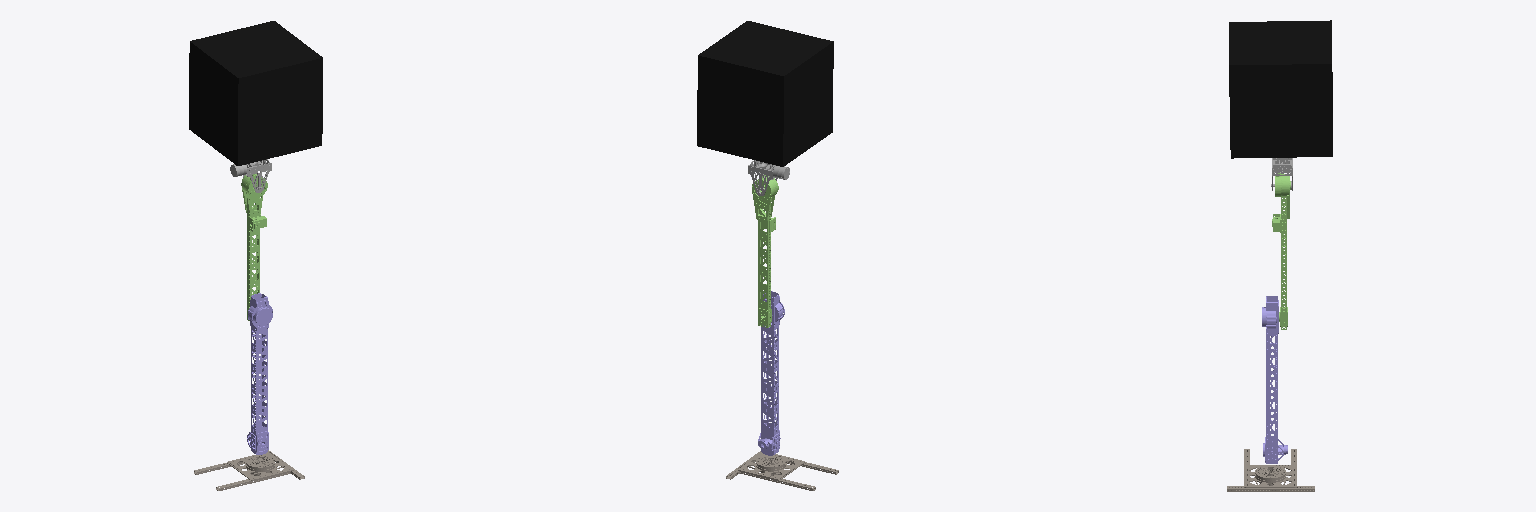
robot.urdf — robotic_arm_2:
<?xml version="1.0" encoding="utf-8"?>
<!-- This URDF was automatically created by SolidWorks to URDF Exporter! Originally created by Stephen Brawner (brawner@gmail.com) 
     Commit Version: 1.6.0-4-g7f85cfe  Build Version: 1.6.7995.38578
     For more information, please see http://wiki.ros.org/sw_urdf_exporter -->
<robot
  name="robotic_arm_2">
  <ros2_control name="arm_hw" type="system">
    <hardware>
      <plugin>mujoco_ros2_control/MujocoSystem</plugin>
    </hardware>

    <joint name="joint1">
      <command_interface name="effort"/>
      <state_interface name="position"/>
      <state_interface name="velocity"/>
      <state_interface name="effort"/>
    </joint>

    <joint name="joint2">
      <command_interface name="effort"/>
      <state_interface name="position"/>
      <state_interface name="velocity"/>
      <state_interface name="effort"/>
    </joint>

    <joint name="joint3">
      <command_interface name="effort"/>
      <state_interface name="position"/>
      <state_interface name="velocity"/>
      <state_interface name="effort"/>
    </joint>

    <joint name="joint4">
      <command_interface name="effort"/>
      <state_interface name="position"/>
      <state_interface name="velocity"/>
      <state_interface name="effort"/>
    </joint>

    <joint name="joint5">
      <command_interface name="effort"/>
      <state_interface name="position"/>
      <state_interface name="velocity"/>
      <state_interface name="effort"/>
    </joint>

    <joint name="joint6">
      <command_interface name="effort"/>
      <state_interface name="position"/>
      <state_interface name="velocity"/>
      <state_interface name="effort"/>
    </joint>
  </ros2_control>
  <link
    name="base_link">
    <inertial>
      <origin
        xyz="-0.00360621703012591 5.13966575302616E-05 -0.0043754845331987"
        rpy="0 0 0" />
      <mass
        value="0.905716016234243" />
      <inertia
        ixx="0.00107148927738251"
        ixy="2.76094590635663E-06"
        ixz="-5.48596184839886E-07"
        iyy="0.00144104333997985"
        iyz="2.22550097763412E-07"
        izz="0.00244792600108889" />
    </inertial>
    <visual>
      <origin
        xyz="0 0 0"
        rpy="0 0 0" />
      <geometry>
        <mesh
          filename="package://arm/model_2/base_link.STL" />
      </geometry>
      <material
        name="">
        <color
          rgba="0.650980392156863 0.619607843137255 0.588235294117647 1" />
      </material>
    </visual>
    <collision>
      <origin
        xyz="0 0 0"
        rpy="0 0 0" />
      <geometry>
        <mesh
          filename="package://arm/model_2/base_link.STL" />
      </geometry>
    </collision>
  </link>
  <link
    name="link1">
    <inertial>
      <origin
        xyz="-0.000108374982880771 -0.0224173657094816 0.029569493742257"
        rpy="0 0 0" />
      <mass
        value="1.91180538120759" />
      <inertia
        ixx="0.00130826953333855"
        ixy="1.36686617170016E-06"
        ixz="1.38971343692845E-05"
        iyy="0.00190867031534286"
        iyz="1.26824667763748E-06"
        izz="0.0017708012751492" />
    </inertial>
    <visual>
      <origin
        xyz="0 0 0"
        rpy="0 0 0" />
      <geometry>
        <mesh
          filename="package://arm/model_2/link1.STL" />
      </geometry>
      <material
        name="">
        <color
          rgba="0.650980392156863 0.619607843137255 0.588235294117647 1" />
      </material>
    </visual>
    <collision>
      <origin
        xyz="0 0 0"
        rpy="0 0 0" />
      <geometry>
        <mesh
          filename="package://arm/model_2/link1.STL" />
      </geometry>
    </collision>
  </link>
  <joint
    name="j1"
    type="continuous">
    <origin
      xyz="6.34132927793407E-05 -0.00167405073291106 0.0278500000000087"
      rpy="0 0 0" />
    <parent
      link="base_link" />
    <child
      link="link1" />
    <axis
      xyz="0 0 1" />
    <limit
      lower="-3.14"
      upper="3.14"
      effort="100"
      velocity="1" />
  </joint>
  <link
    name="link2">
    <inertial>
      <origin
        xyz="0.375032807584109 -0.00767142856849168 -0.014875051736123"
        rpy="0 0 0" />
      <mass
        value="1.09233144358037" />
      <inertia
        ixx="0.0005626450541676"
        ixy="4.63551737429072E-07"
        ixz="-5.41332728898312E-05"
        iyy="0.00825256907491952"
        iyz="-1.20408146474298E-06"
        izz="0.00858584566040511" />
    </inertial>
    <visual>
      <origin
        xyz="0 0 0"
        rpy="0 0 0" />
      <geometry>
        <mesh
          filename="package://arm/model_2/link2.STL" />
      </geometry>
      <material
        name="">
        <color
          rgba="0.701960784313725 0.670588235294118 0.933333333333333 1" />
      </material>
    </visual>
    <collision>
      <origin
        xyz="0 0 0"
        rpy="0 0 0" />
      <geometry>
        <mesh
          filename="package://arm/model_2/link2.STL" />
      </geometry>
    </collision>
  </link>
  <joint
    name="j2"
    type="revolute">
    <origin
      xyz="0.00565491862295636 0.0185517283813911 0.0710733482199691"
      rpy="-1.5707963267949 -1.5707963267949 0" />
    <parent
      link="link1" />
    <child
      link="link2" />
    <axis
      xyz="0 0 -1" />
    <limit
      lower="-2.00"
      upper="2.00"
      effort="50"
      velocity="10" />
  </joint>
  <link
    name="link3">
    <inertial>
      <origin
        xyz="0.396708620826614 -0.000958004863177431 0.0146574939105666"
        rpy="0 0 0" />
      <mass
        value="0.750870225721507" />
      <inertia
        ixx="0.000311759469197798"
        ixy="-4.43261859254487E-06"
        ixz="2.95134819187516E-06"
        iyy="0.00280789973083463"
        iyz="-6.86575203871496E-07"
        izz="0.00305821466409237" />
    </inertial>
    <visual>
      <origin
        xyz="0 0 0"
        rpy="0 0 0" />
      <geometry>
        <mesh
          filename="package://arm/model_2/link3.STL" />
      </geometry>
      <material
        name="">
        <color
          rgba="0.647058823529412 0.854901960784314 0.533333333333333 1" />
      </material>
    </visual>
    <collision>
      <origin
        xyz="0 0 0"
        rpy="0 0 0" />
      <geometry>
        <mesh
          filename="package://arm/model_2/link3.STL" />
      </geometry>
    </collision>
  </link>
  <joint
    name="j3"
    type="revolute">
    <origin
      xyz="0.500001547205985 -0.00750000000003981 0.0418960557056171"
      rpy="3.14159265358979 0 0" />
    <parent
      link="link2" />
    <child
      link="link3" />
    <axis
      xyz="0 0 -1" />
    <limit
      lower="-3.0"
      upper="3.0"
      effort="50"
      velocity="10" />
  </joint>
  <link
    name="link4">
    <inertial>
      <origin
        xyz="0.038863501011841 0.0683350051478873 -0.0302743604655186"
        rpy="0 0 0" />
      <mass
        value="0.328855136025889" />
      <inertia
        ixx="0.000130515381077466"
        ixy="-1.58524988603639E-07"
        ixz="2.47556859422436E-07"
        iyy="8.67316206395659E-05"
        iyz="-5.5584311774188E-08"
        izz="0.000124148178178434" />
    </inertial>
    <visual>
      <origin
        xyz="0 0 0"
        rpy="0 0 0" />
      <geometry>
        <mesh
          filename="package://arm/model_2/link4.STL" />
      </geometry>
      <material
        name="">
        <color
          rgba="0.698039215686274 0.698039215686274 0.698039215686274 1" />
      </material>
    </visual>
    <collision>
      <origin
        xyz="0 0 0"
        rpy="0 0 0" />
      <geometry>
        <mesh
          filename="package://arm/model_2/link4.STL" />
      </geometry>
    </collision>
  </link>
  <joint
    name="j4"
    type="revolute">
    <origin
      xyz="0.49337271998737 -0.000717203264855637 -0.0114999985821401"
      rpy="3.14159265358979 0 1.5707963267949" />
    <parent
      link="link3" />
    <child
      link="link4" />
    <axis
      xyz="0 0 -1" />
    <limit
      lower="-2.00"
      upper="1.85"
      effort="50"
      velocity="10" />
  </joint>
  <link
    name="link5">
    <inertial>
      <origin
        xyz="0.0409963273842915 -0.00073737247367877 -0.0449408988432979"
        rpy="0 0 0" />
      <mass
        value="0.107863966418761" />
      <inertia
        ixx="2.27221737578051E-05"
        ixy="2.69721515117391E-08"
        ixz="5.25283476817909E-07"
        iyy="2.42204415320291E-05"
        iyz="5.16755491615407E-09"
        izz="3.18656466025931E-05" />
    </inertial>
    <visual>
      <origin
        xyz="0 0 0"
        rpy="0 0 0" />
      <geometry>
        <mesh
          filename="package://arm/model_2/link5.STL" />
      </geometry>
      <material
        name="">
        <color
          rgba="0.698039215686274 0.698039215686274 0.698039215686274 1" />
      </material>
    </visual>
    <collision>
      <origin
        xyz="0 0 0"
        rpy="0 0 0" />
      <geometry>
        <mesh
          filename="package://arm/model_2/link5.STL" />
      </geometry>
    </collision>
  </link>
  <joint
    name="j5"
    type="revolute">
    <origin
      xyz="0.0419999999991213 0.0759999999957396 -0.0298500018499103"
      rpy="1.5707963267949 0 1.51361065936655" />
    <parent
      link="link4" />
    <child
      link="link5" />
    <axis
      xyz="-0.0571545044239792 0 -0.998365345263972" />
    <limit
      lower="-0.04"
      upper="0.04"
      effort="50"
      velocity="10" />
  </joint>
  <link
    name="link6">
    <inertial>
      <origin
        xyz="3.86468551952235E-09 1.96579288749832E-08 -0.137514746784072"
        rpy="0 0 0" />
      <mass
        value="0.780213928601236" />
      <inertia
        ixx="0.0129384512539947"
        ixy="-2.76048037510176E-18"
        ixz="5.96311194867027E-19"
        iyy="0.0129384512539947"
        iyz="4.03981776281098E-19"
        izz="0.0129748869006043" />
    </inertial>
    <visual>
      <origin
        xyz="0 0 0"
        rpy="0 0 0" />
      <geometry>
        <mesh
          filename="package://arm/model_2/link6.STL" />
      </geometry>
      <material
        name="">
        <color
          rgba="0.113725490196078 0.113725490196078 0.113725490196078 1" />
      </material>
    </visual>
    <collision>
      <origin
        xyz="0 0 0"
        rpy="0 0 0" />
      <geometry>
        <mesh
          filename="package://arm/model_2/link6.STL" />
      </geometry>
    </collision>
  </link>
  <joint
    name="j6"
    type="revolute">
    <origin
      xyz="0.109242831460937 -0.00191951430536354 -0.0510772135029806"
      rpy="0.0171393597075962 1.51361065936655 3.14159265358978" />
    <parent
      link="link5" />
    <child
      link="link6" />
    <axis
      xyz="0 0 1" />
    <limit
      lower="-3.14"
      upper="3.14"
      effort="100"
      velocity="1" />
  </joint>
</robot>

--- Facts derived from the render (not from the file) ---
Views: 3 orthographic renders of the robot side by side, from view 1: azimuth 30°, elevation 25°; view 2: azimuth 150°, elevation 25°; view 3: azimuth 270°, elevation 25°.
Robot: robotic_arm_2 — 7 links, 6 joints (5 revolute, 1 continuous); root link base_link; default pose: all joints at 0.
Visible links, largest first — view 1: link6, link2, link3, base_link, link4; view 2: link6, link2, link3, base_link, link4; view 3: link6, link2, base_link, link3.
Boxes of the visible links, left/top/right/bottom form: link6: left=189, top=21, right=322, bottom=165; link2: left=247, top=293, right=272, bottom=454; link3: left=241, top=174, right=267, bottom=320; base_link: left=194, top=450, right=304, bottom=490; link4: left=230, top=159, right=271, bottom=192; link6: left=697, top=21, right=833, bottom=166; link2: left=758, top=291, right=784, bottom=455; link3: left=752, top=175, right=778, bottom=327; base_link: left=726, top=451, right=838, bottom=490; link4: left=748, top=161, right=789, bottom=195; link6: left=1229, top=20, right=1332, bottom=158; link2: left=1262, top=296, right=1287, bottom=463; base_link: left=1227, top=449, right=1314, bottom=491; link3: left=1272, top=173, right=1290, bottom=329.
Bounding box of the posed robot: 0.4017 × 0.3636 × 1.67 m (x, y, z).
Meshes: 7 distinct files referenced, 6 mesh visuals loaded (6 binary STL); not drawn: 1 (reference not matched to a file when rendering).
